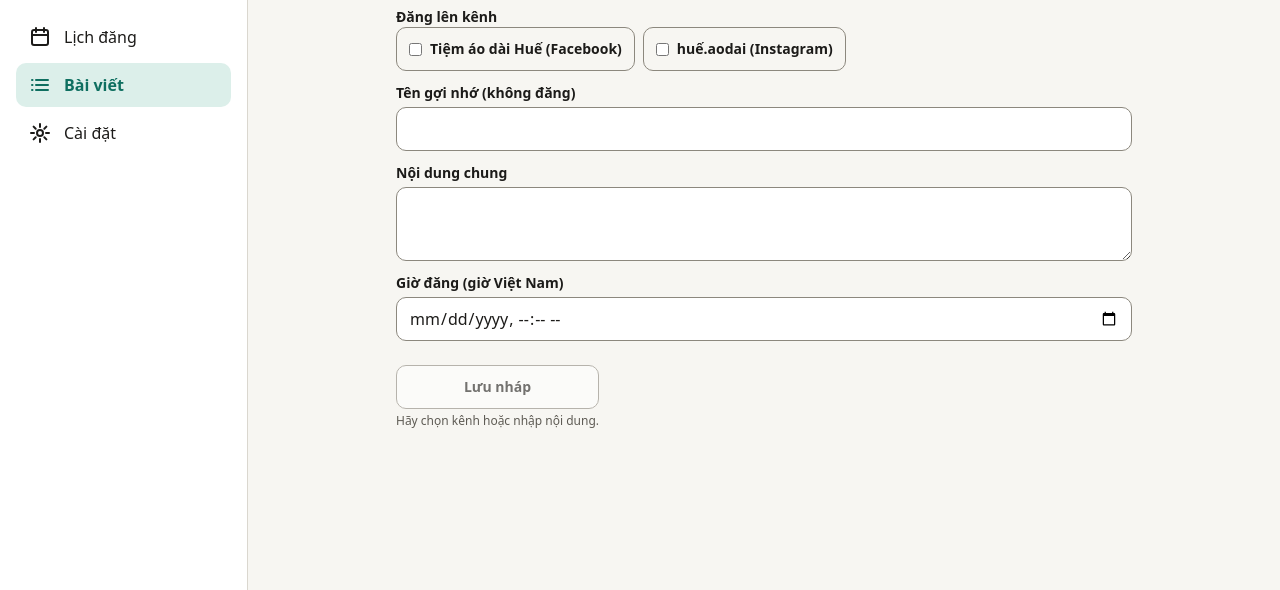
Test: ComposePage – soạn bài mới › nội dung riêng của kênh: bật "Dùng nội dung riêng" → ô nhập riêng, xem trước đổi theo
Click the checkbox labelled "Tiệm áo dài Huế (Facebook)".
click(416, 49)  # box x1=409 y1=42 x2=422 y2=56
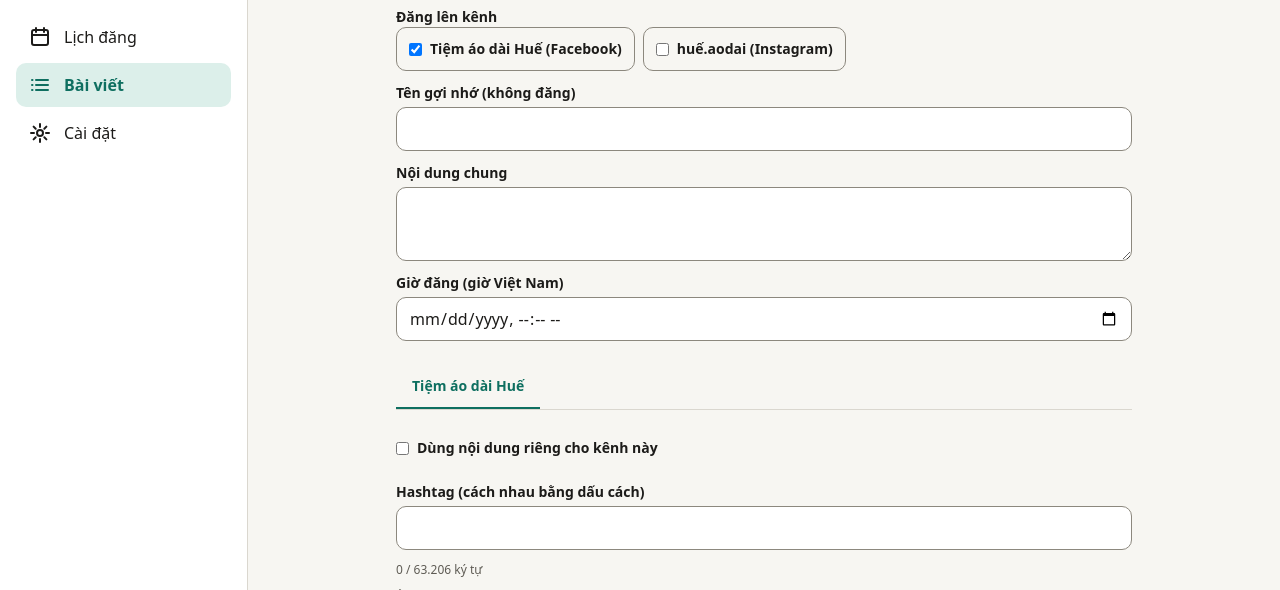
Type "Chữ chung" into the text box labelled "Nội dung chung".
click(764, 224); type("Chữ chung")  # box x1=396 y1=187 x2=1132 y2=261
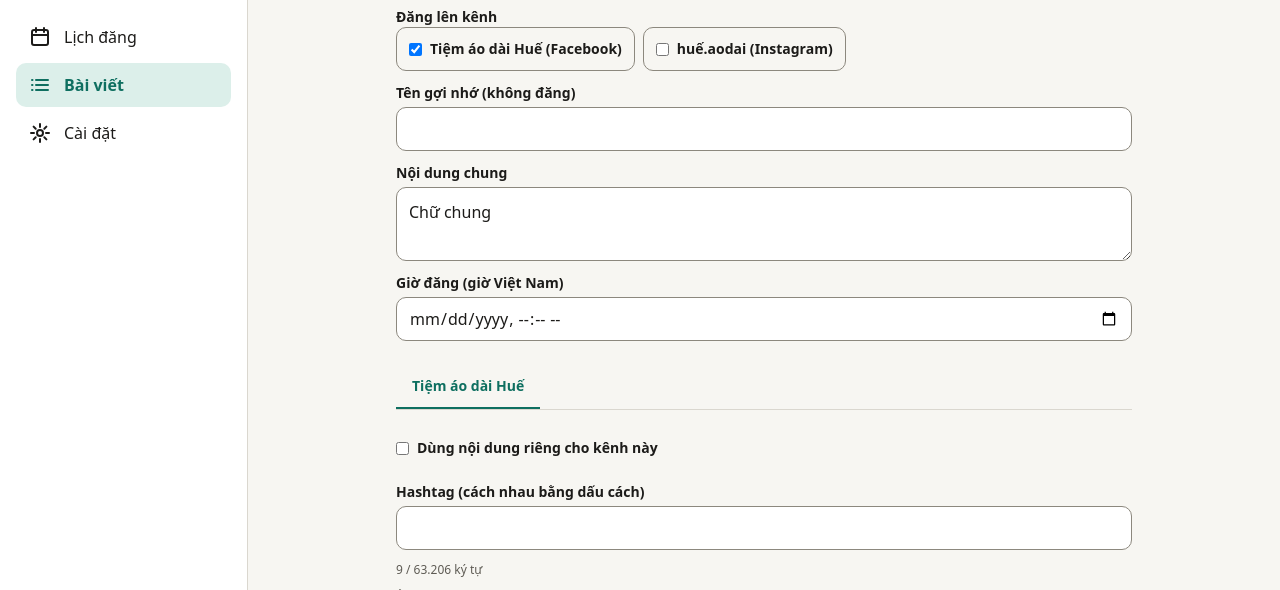
Click the checkbox labelled "Dùng nội dung riêng cho kênh này".
click(402, 448)  # box x1=396 y1=442 x2=409 y2=454
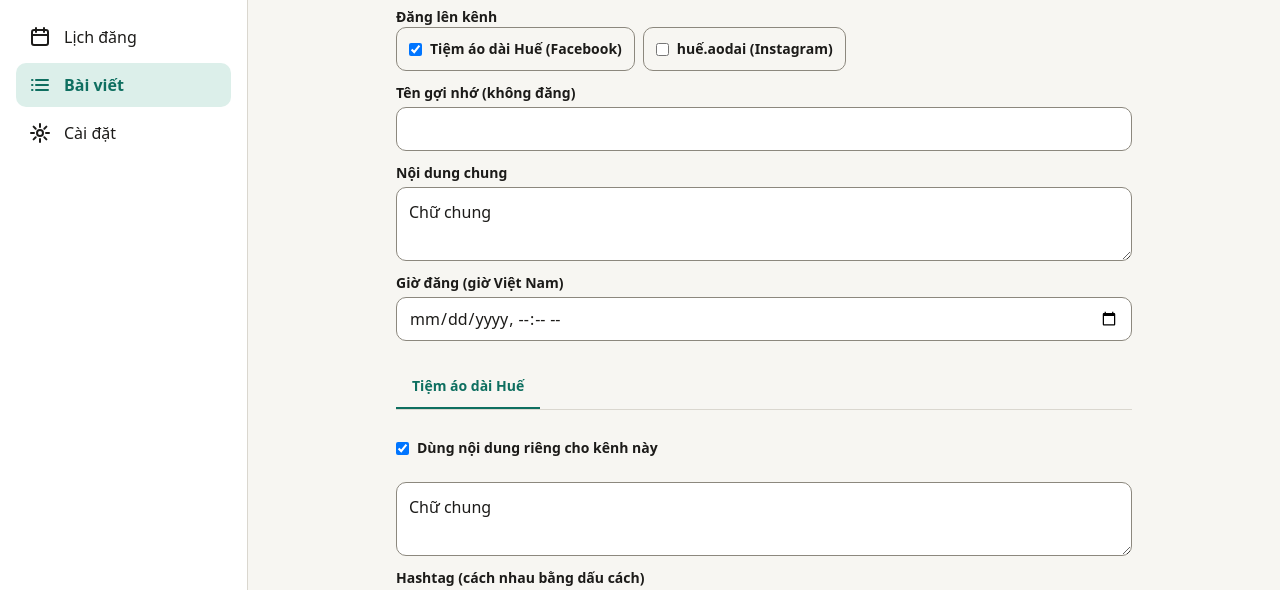
Replace the text in the text box named "Nội dung riêng của kênh" with "Chữ riêng cho Facebook" at x=764, y=519, box x1=396 y1=482 x2=1132 y2=556
(page scrolled)
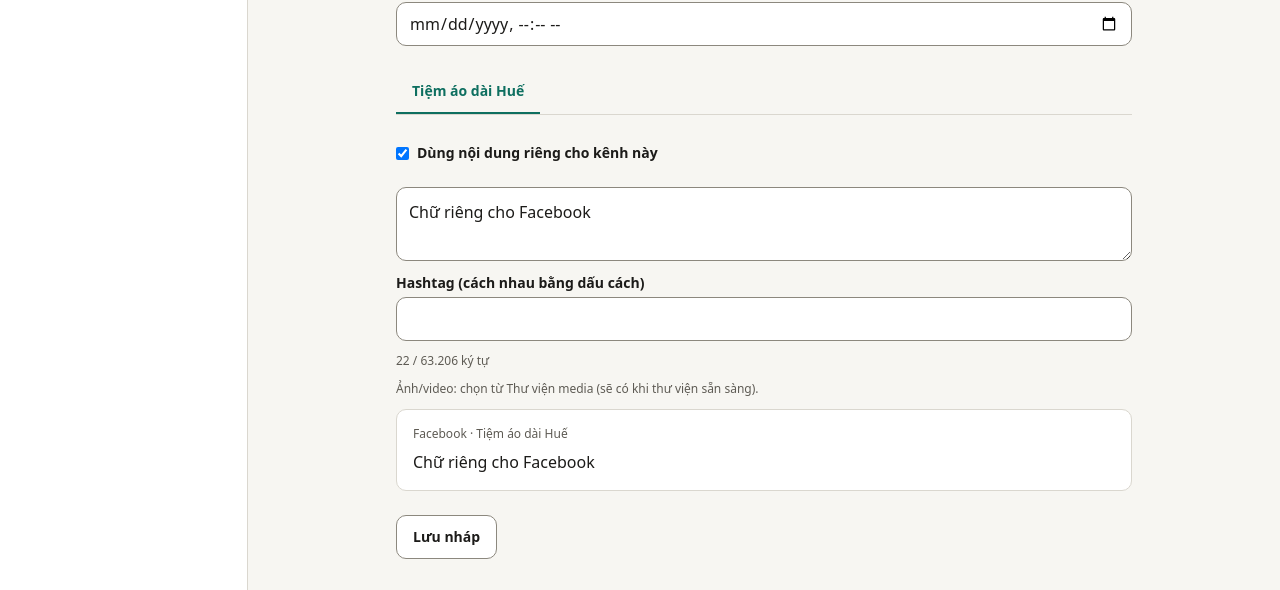
Now the text "Chữ riêng cho Facebook" is shown, box x1=413 y1=451 x2=595 y2=473
